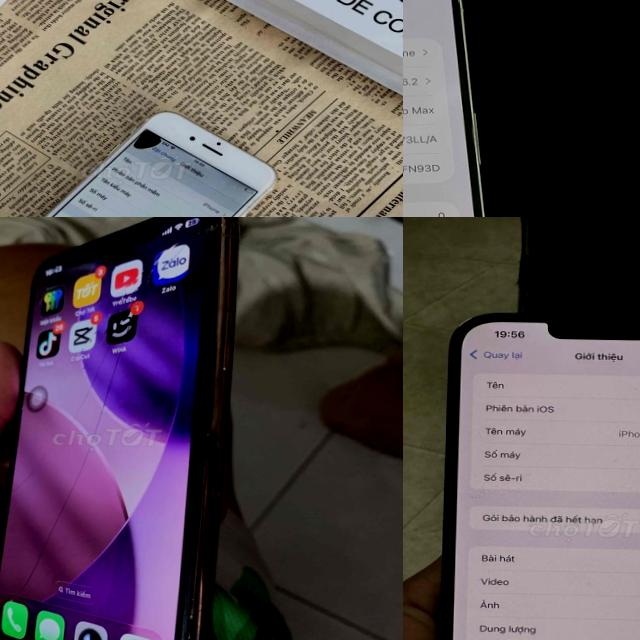gen_11: (0, 217, 251, 640)
gen_12_13: (429, 307, 640, 640)
gen_15: (403, 0, 524, 217)
gen_6: (0, 105, 280, 217)
physical_damage: (7, 217, 220, 640)
scratch: (169, 569, 207, 640)
screen_defect: (133, 126, 184, 158)
